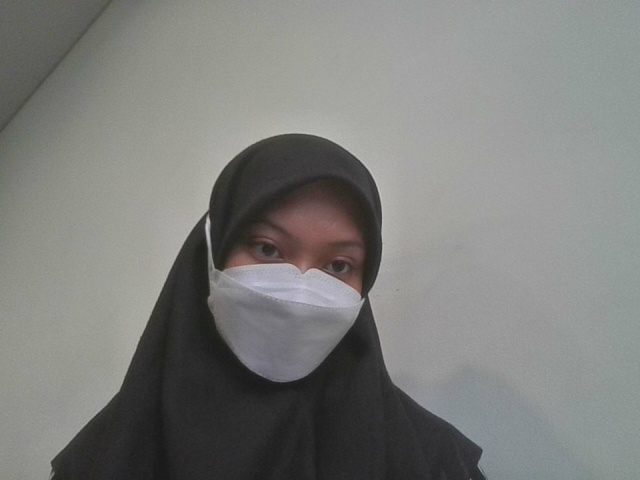Awake: (192, 121, 387, 444)
